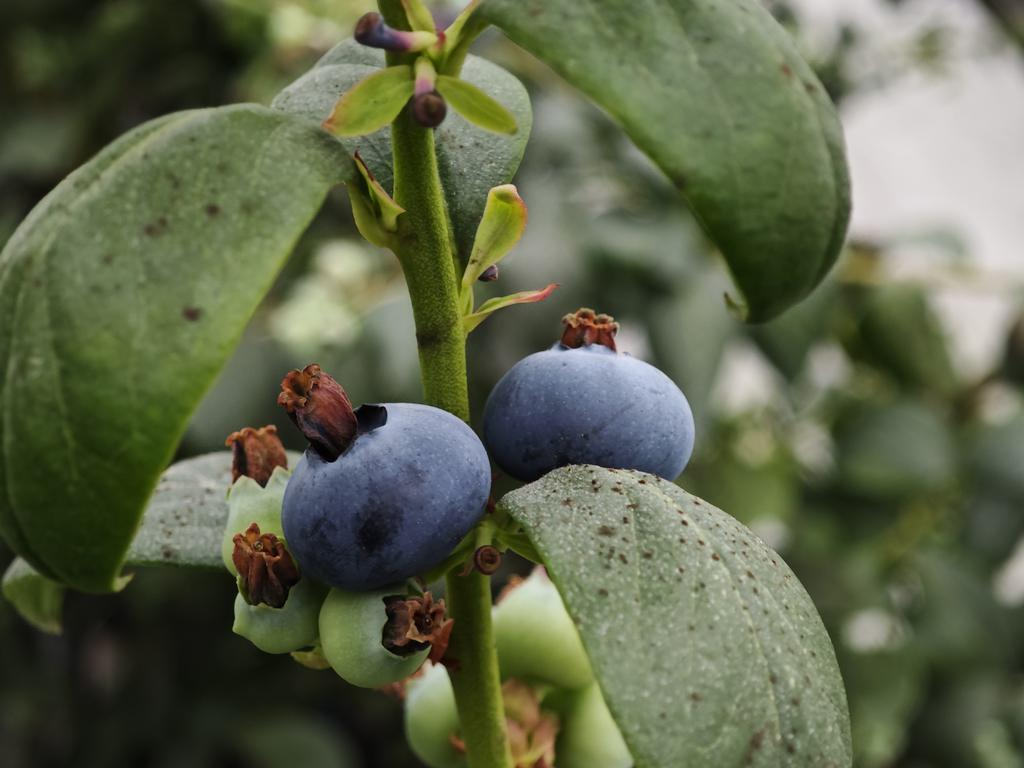RipeBlueBerry: (277, 390, 498, 593), (484, 329, 699, 483)
